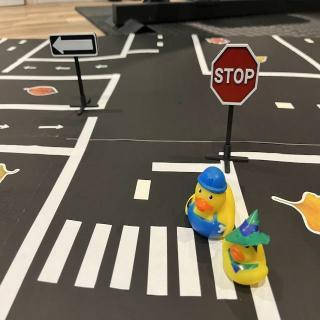duck_regular: (224, 211, 272, 290)
duck_specialty: (186, 168, 236, 242)
road_crosswalk: (37, 216, 241, 300)
road_oneway: (37, 121, 66, 133), (96, 62, 112, 72), (55, 66, 73, 73), (25, 64, 39, 72), (1, 122, 12, 132)
sign_oneway_left: (49, 35, 99, 59)
sign_stop: (211, 45, 261, 109)
